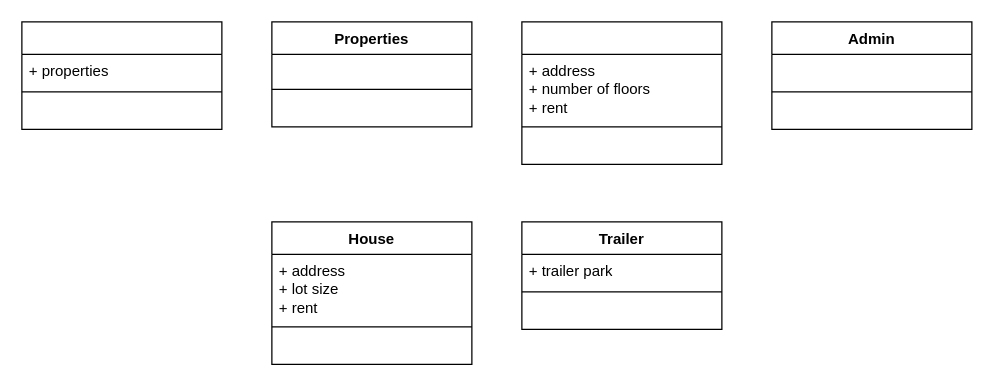
This 994x390 diagram has some shape labels left out. The shapes that lost their labels are listed below. From the top down, each one's box as (x1, y1, x2, y2) in pixels, then its label:
(21, 21, 222, 129): Landlord
(521, 21, 722, 164): Condomidium
